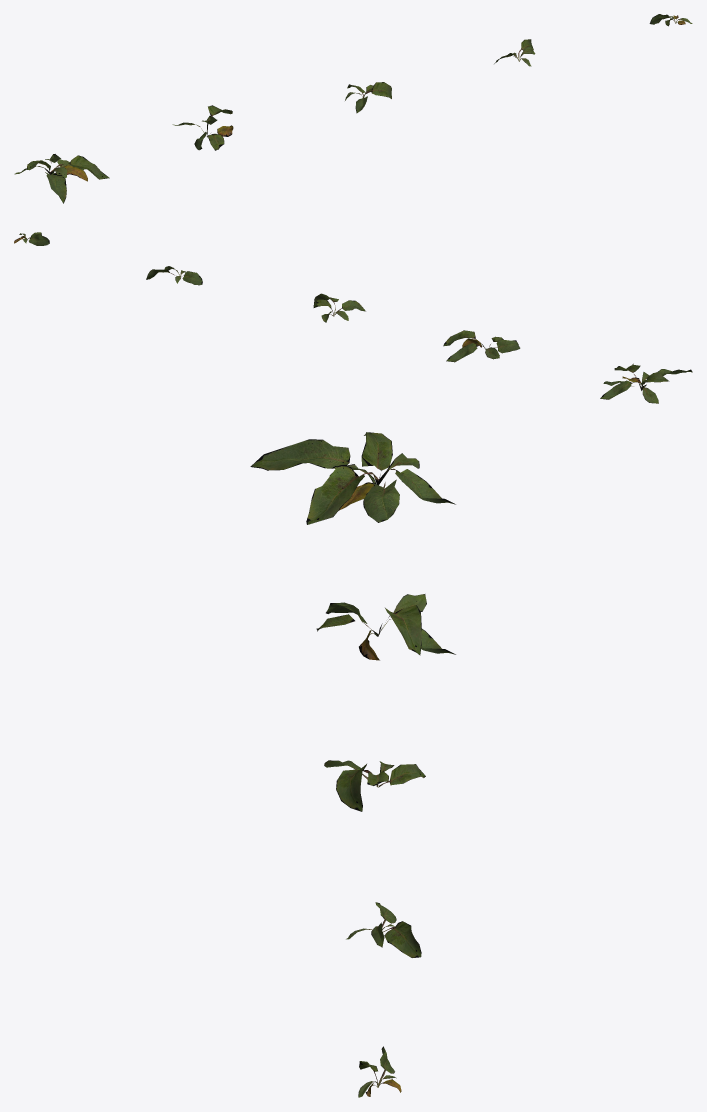
Rendered from weed.glb.
The picture shows the model from 3 angles, top to bottom: view 1: azimuth 30°, elevation 25°; view 2: azimuth 150°, elevation 25°; view 3: azimuth 270°, elevation 25°; orthographic projection. The views are drawn at different scales.
Parts seen in each view (by area): view 1: weed_plant_02_a_LOD0, weed_plant_02_b_LOD0, weed_plant_02_c_LOD0, weed_plant_02_d_LOD0; view 2: weed_plant_02_a_LOD0, weed_plant_02_b_LOD0, weed_plant_02_c_LOD0, weed_plant_02_d_LOD0, weed_plant_02_e_LOD0; view 3: weed_plant_02_a_LOD0, weed_plant_02_b_LOD0, weed_plant_02_c_LOD0, weed_plant_02_d_LOD0.
Part boxes in pixels (<box>): weed_plant_02_a_LOD0: <box>14,154,109,203</box>; weed_plant_02_b_LOD0: <box>172,105,233,150</box>; weed_plant_02_c_LOD0: <box>345,82,391,113</box>; weed_plant_02_d_LOD0: <box>494,39,535,66</box>; weed_plant_02_a_LOD0: <box>600,363,692,403</box>; weed_plant_02_b_LOD0: <box>443,330,520,362</box>; weed_plant_02_c_LOD0: <box>313,293,365,322</box>; weed_plant_02_d_LOD0: <box>146,266,202,285</box>; weed_plant_02_e_LOD0: <box>14,232,49,245</box>; weed_plant_02_a_LOD0: <box>250,432,455,524</box>; weed_plant_02_b_LOD0: <box>316,594,455,660</box>; weed_plant_02_c_LOD0: <box>324,760,425,811</box>; weed_plant_02_d_LOD0: <box>346,902,421,957</box>.
Size of the model in its own units: 2.13 by 0.0744 by 0.2908.
Materials: 1 (1 with a texture image).
